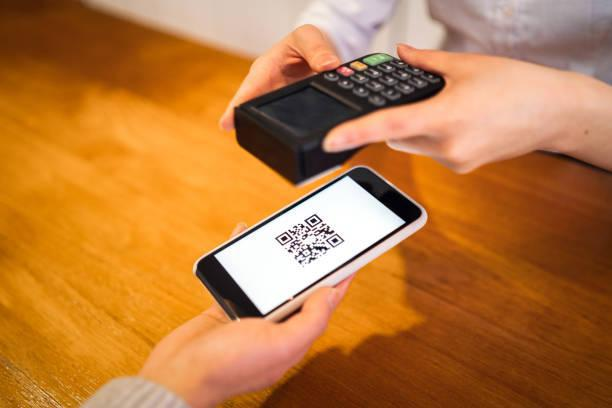Finder pattern: (325, 232, 346, 249), (302, 212, 324, 228), (274, 231, 295, 247)
